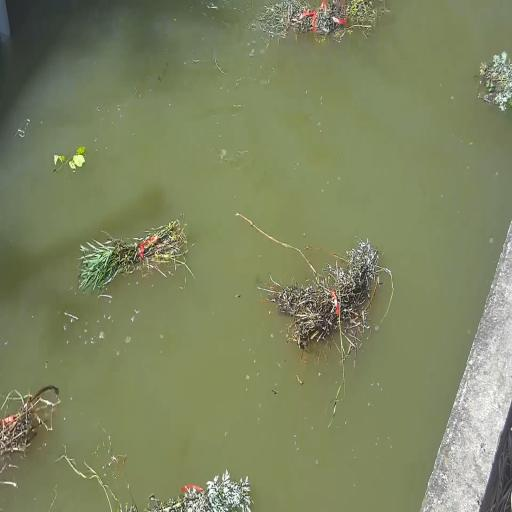twig: (268, 232, 378, 342), (66, 207, 196, 296), (0, 375, 62, 480), (254, 0, 381, 51), (149, 478, 256, 512), (31, 133, 95, 181), (475, 57, 512, 112)
